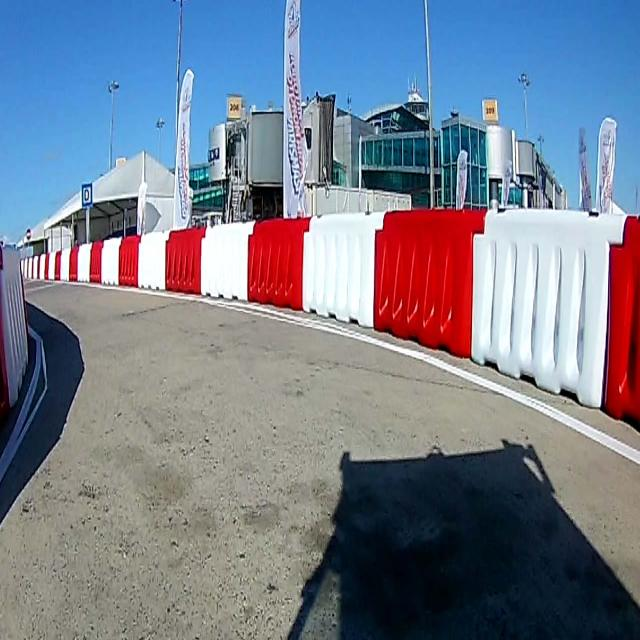durak: (81, 183, 92, 207)
